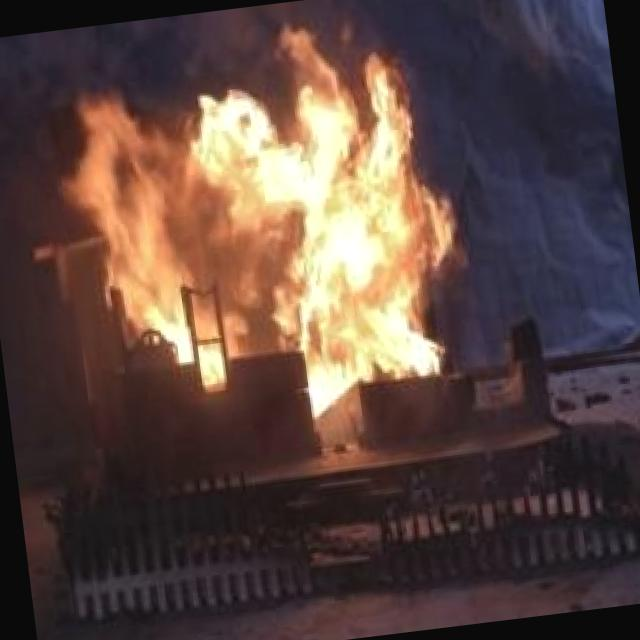fire: (70, 17, 480, 402)
